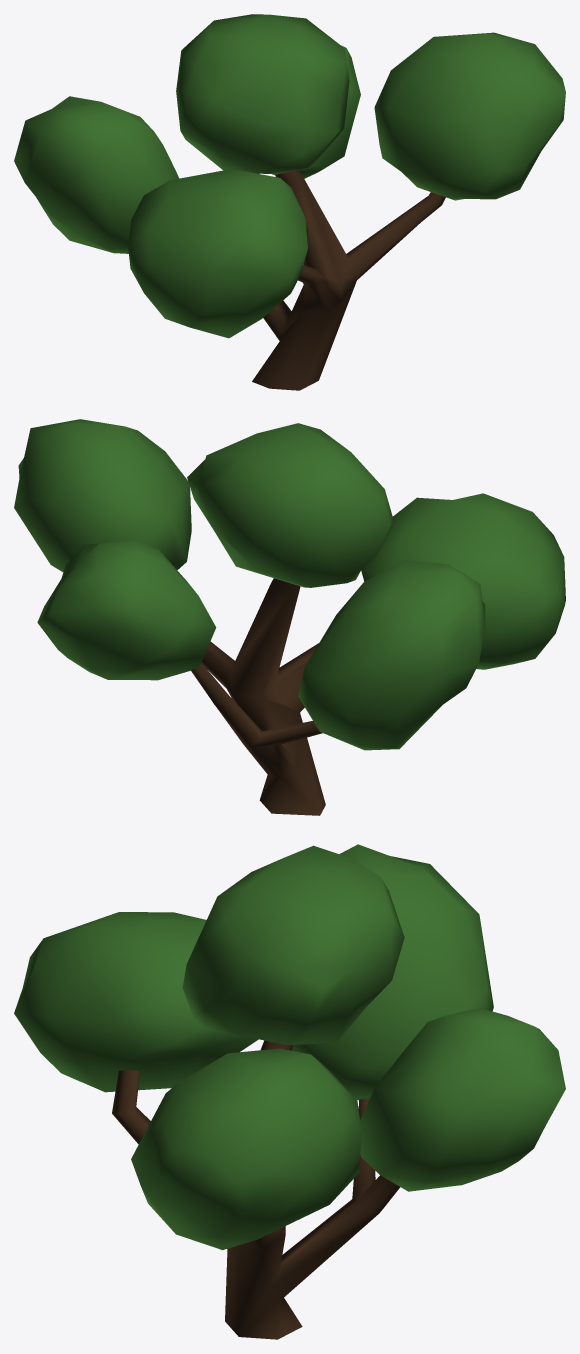
The model's file is Tree09.fbx.
The picture shows the model from 3 angles, top to bottom: view 1: azimuth 30°, elevation 25°; view 2: azimuth 150°, elevation 25°; view 3: azimuth 270°, elevation 25°; orthographic projection. The views are drawn at different scales.
Parts seen in each view (by area): view 1: Tree09; view 2: Tree09; view 3: Tree09.
Part boxes in pixels (box(x1,y1,x2,y2)): Tree09: box(14, 14, 565, 390); Tree09: box(14, 419, 565, 815); Tree09: box(14, 844, 565, 1339).
Bounding box in the file's own units: 433 × 300 × 338.
